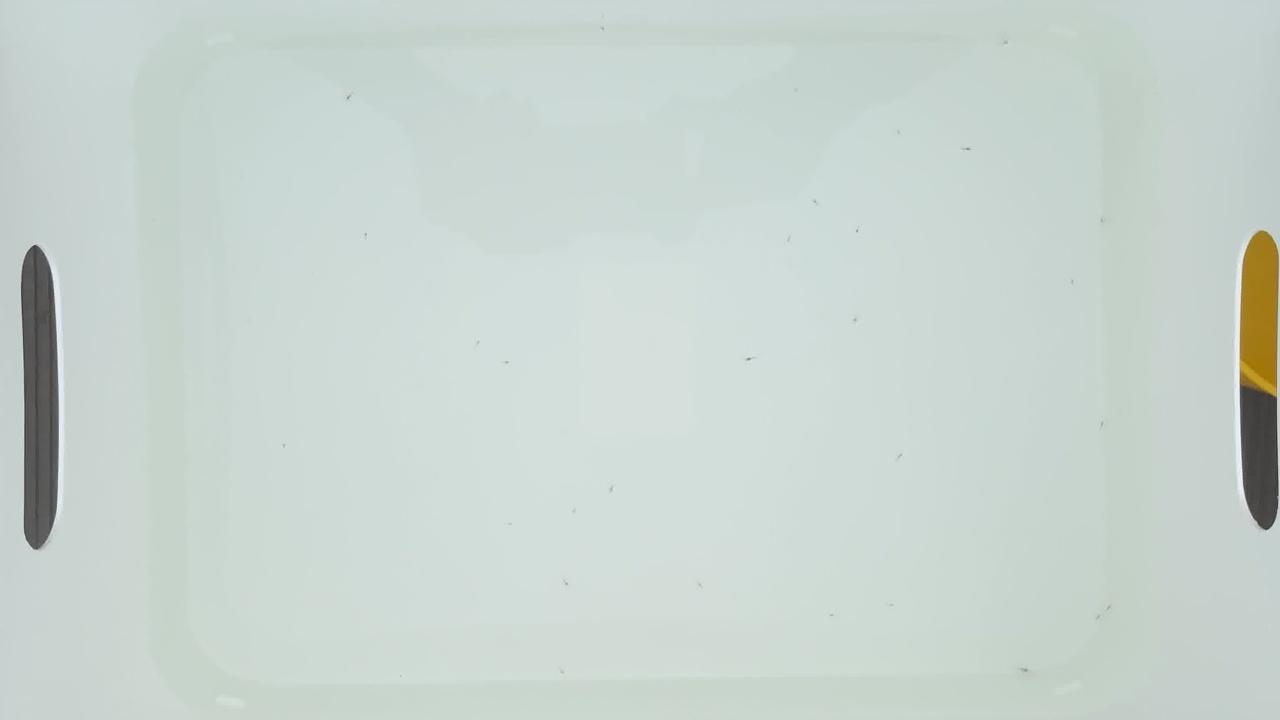shrimp: (693, 583, 706, 591), (594, 24, 607, 32), (999, 41, 1012, 48), (962, 149, 975, 156), (891, 128, 904, 135), (849, 228, 862, 235), (809, 198, 822, 205), (783, 238, 796, 245), (741, 354, 754, 361), (891, 452, 904, 459), (1017, 665, 1030, 672), (1092, 615, 1105, 622), (1102, 604, 1115, 611), (1096, 423, 1109, 430), (1097, 216, 1110, 223), (606, 487, 619, 494), (888, 605, 901, 612), (826, 612, 839, 619), (559, 580, 572, 587), (568, 507, 581, 514), (502, 522, 515, 529), (474, 341, 487, 348), (359, 232, 372, 239), (369, 162, 382, 169), (342, 95, 355, 102), (850, 317, 862, 324), (1067, 279, 1079, 286), (557, 668, 569, 675), (501, 360, 513, 367)
